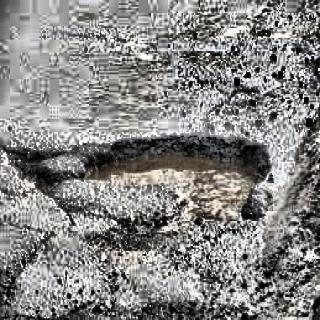pothole: (76, 130, 279, 225), (6, 144, 74, 202)
